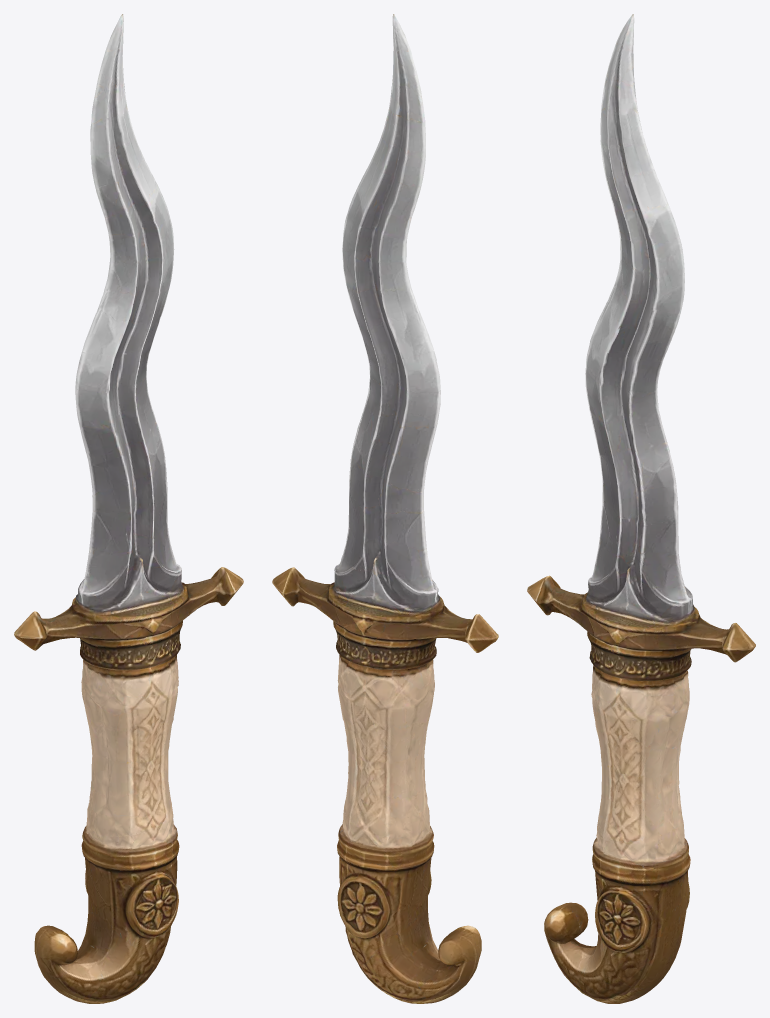
The model's file is Khanjar.glb.
The picture shows the model from 3 angles, left to right: view 1: azimuth 30°, elevation 25°; view 2: azimuth 150°, elevation 25°; view 3: azimuth 330°, elevation 25°; orthographic projection.
Bounding box in the file's own units: 0.4576 × 1.9 × 0.1857.
Materials: 1 (1 with a texture image).
